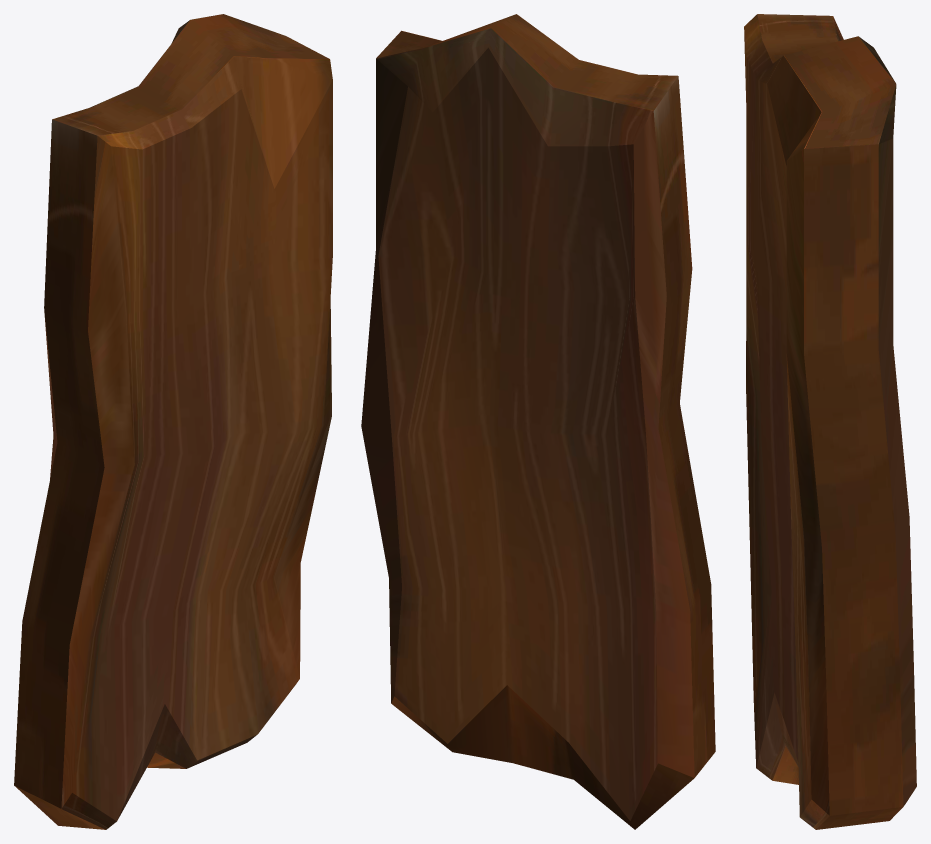
The model's file is WoodPiece.fbx.
3 renders of one model, left to right at view 1: azimuth 30°, elevation 25°; view 2: azimuth 150°, elevation 25°; view 3: azimuth 270°, elevation 25°, orthographic. The views are drawn at different scales.
Parts seen in each view (by area): view 1: pCube1; view 2: pCube1; view 3: pCube1.
Boxes of the visible parts, x1,y1,x2,y2 form: pCube1: (14, 14, 332, 829); pCube1: (361, 14, 715, 829); pCube1: (744, 14, 916, 829).
Size of the model in its own units: 2.95 by 6.89 by 1.3.
Materials: 1 (1 with a texture image).
